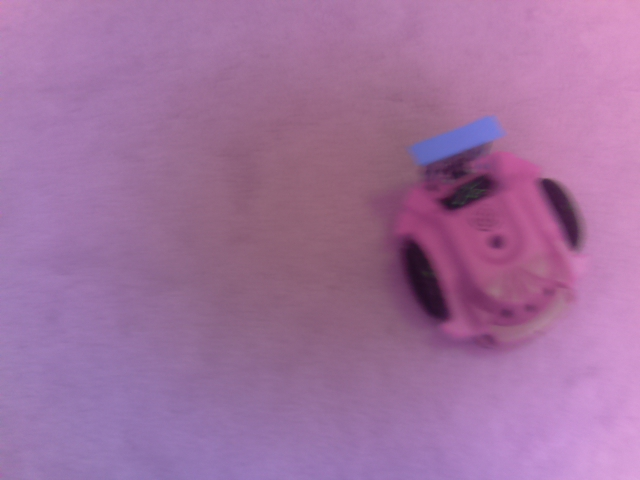board: (397, 109, 515, 173)
chassis: (381, 97, 597, 351)
